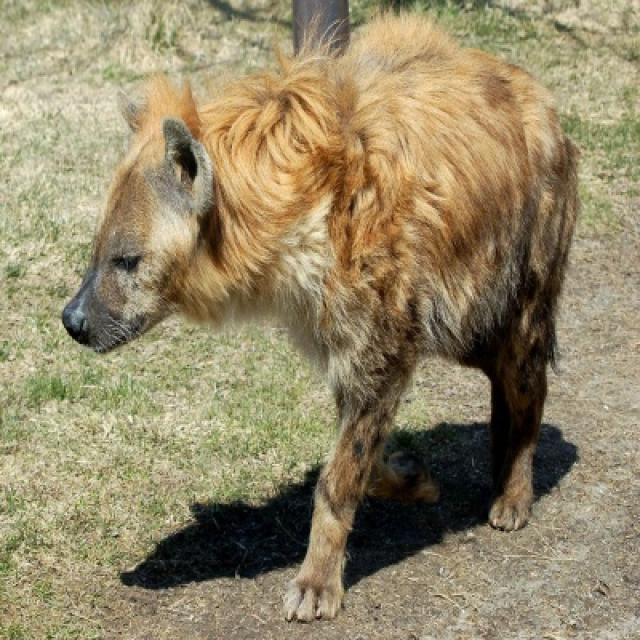hyena: (59, 14, 582, 624)
